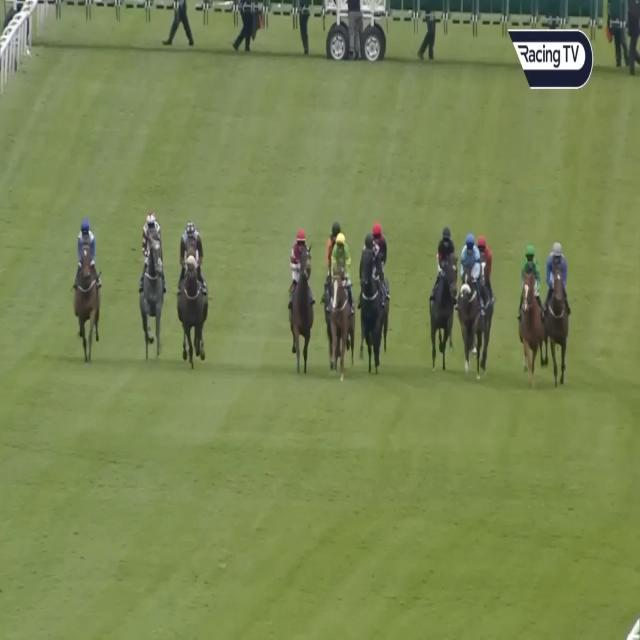horses-racing: (429, 226, 458, 362), (74, 217, 102, 355), (359, 236, 385, 376), (545, 241, 569, 375), (142, 210, 164, 355), (183, 224, 206, 358), (459, 235, 482, 367), (291, 227, 311, 366), (332, 235, 351, 367), (519, 245, 537, 376), (478, 234, 493, 341), (371, 219, 389, 269), (327, 222, 343, 264)
